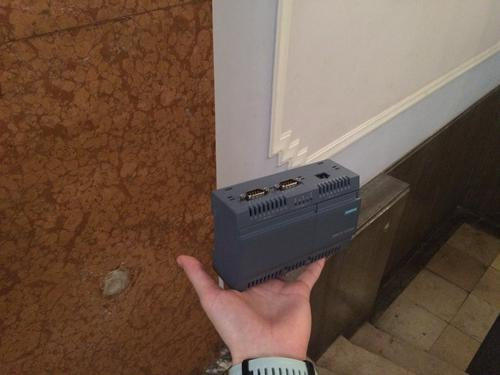iot2000: (209, 157, 362, 293)
